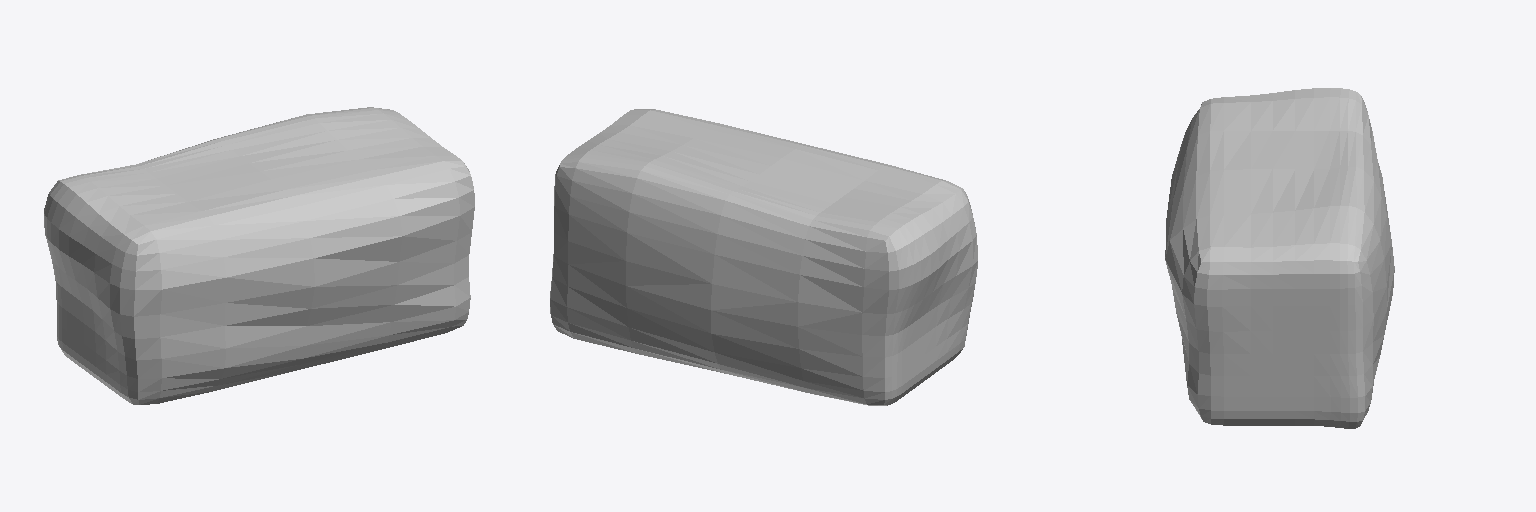
Rendered from PM3D_rock001_005.OBJ.
3 views of the same model, side by side, from view 1: azimuth 30°, elevation 25°; view 2: azimuth 150°, elevation 25°; view 3: azimuth 270°, elevation 25° (orthographic).
Parts seen in each view (by area): view 1: Group38586; view 2: Group38586; view 3: Group38586.
Part boxes in pixels (x1,y1,x2,y2): Group38586: (44,107,474,404); Group38586: (550,109,977,405); Group38586: (1165,88,1394,428).
Bounding box in the file's own units: 3339 × 1661 × 1844.